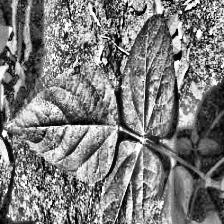ALS: (8, 58, 121, 180), (124, 17, 176, 140), (155, 167, 221, 224)
